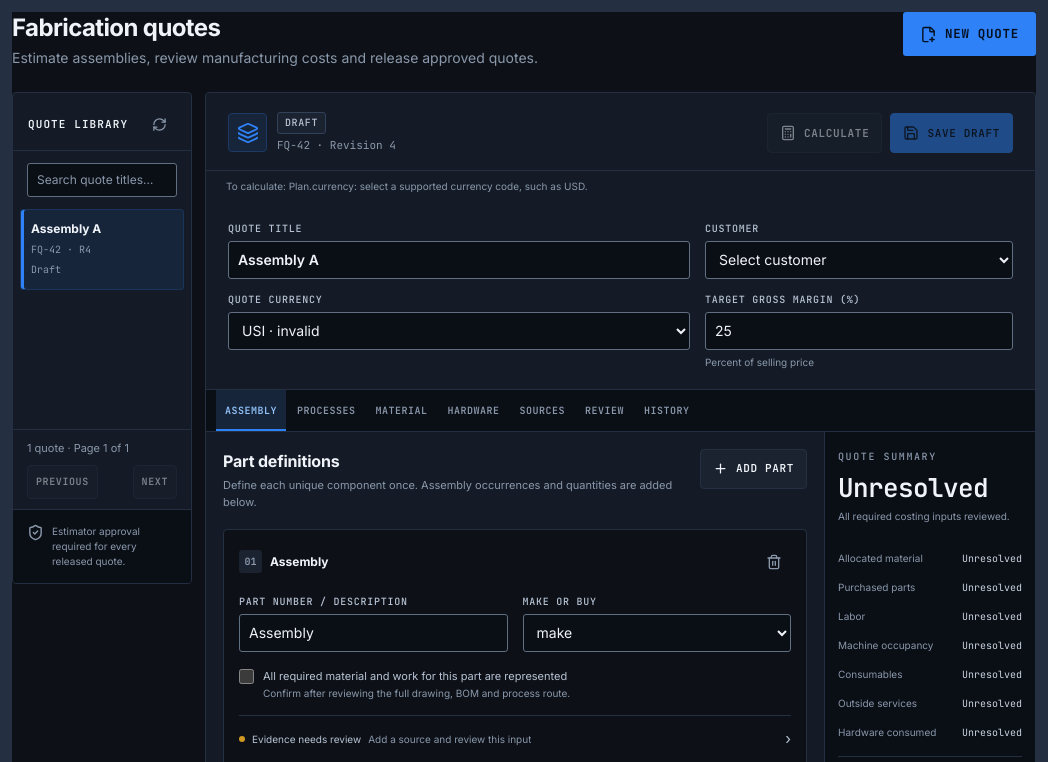
a saved unknown currency is shown honestly and cannot be saved again
The width and height of the screenshot is (1048, 762).
Check: the dropdown labelled "Quote currency" shows "USI · invalid", box [228,312,690,350]
Replace the text in the field labelled "Quote title" with "Reviewed assembly" at (459, 260), box [228,240,690,278]
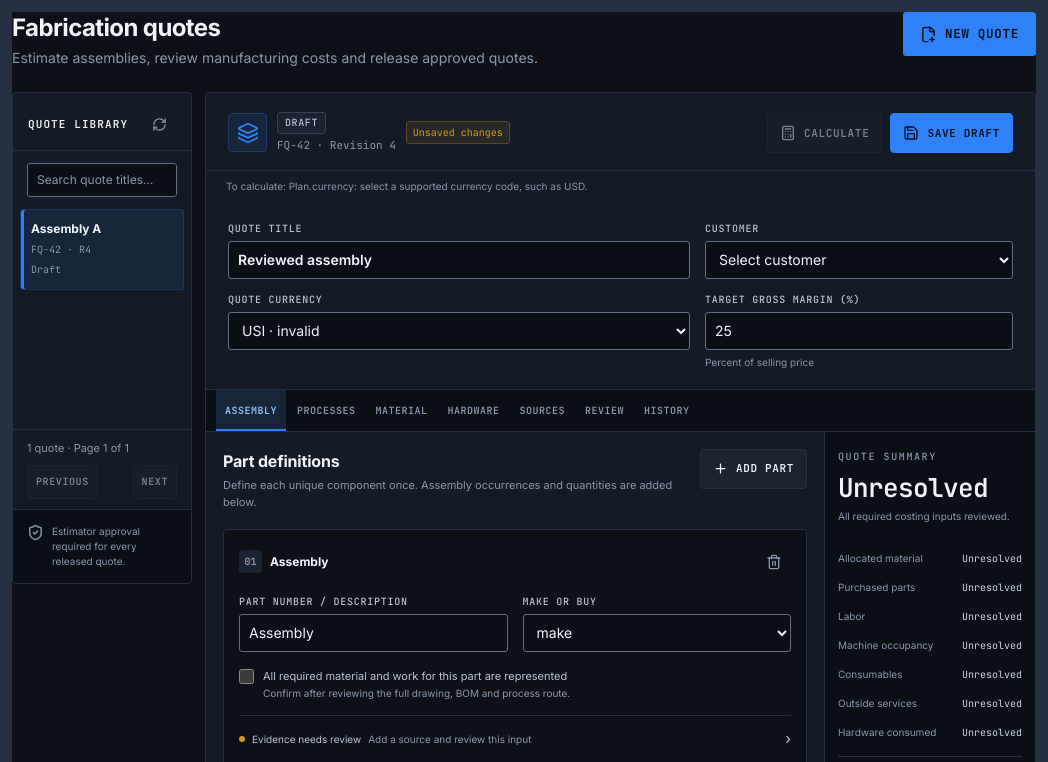
Click the button "Save draft" at (952, 133), box [890,113,1013,153]
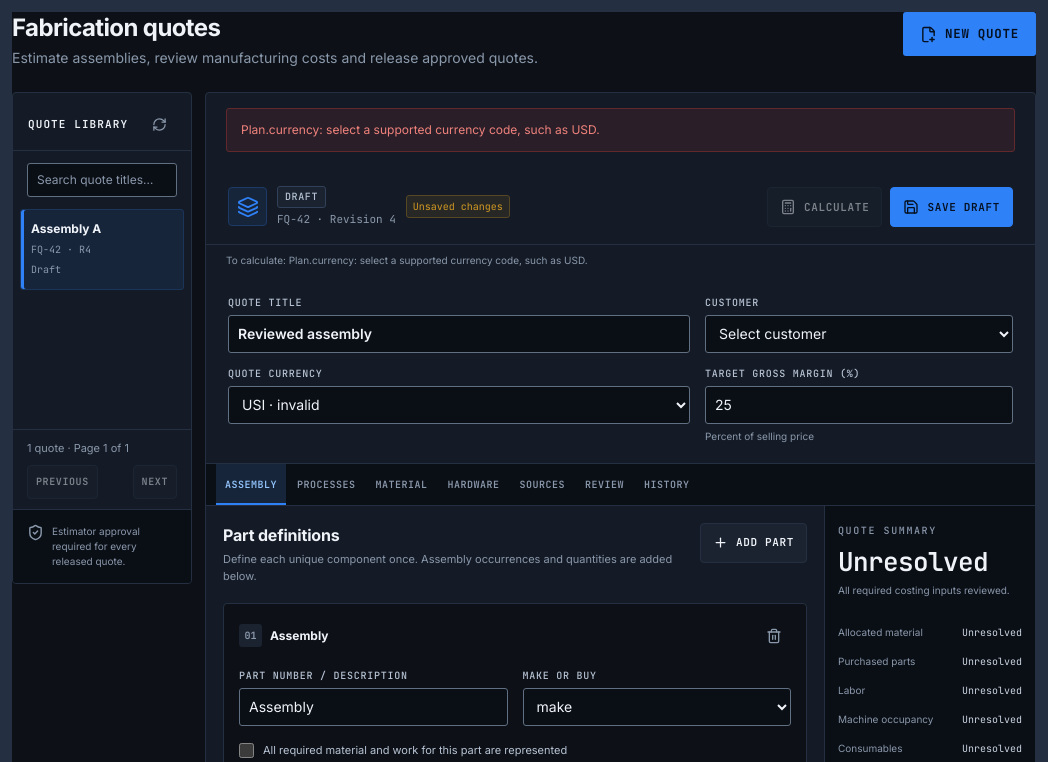
Check: the message shows "select a supported currency code", box [241,122,600,137]
